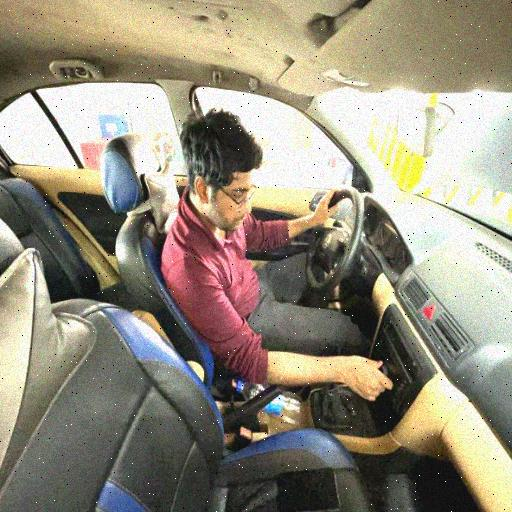operatingradio: (166, 107, 404, 412)
